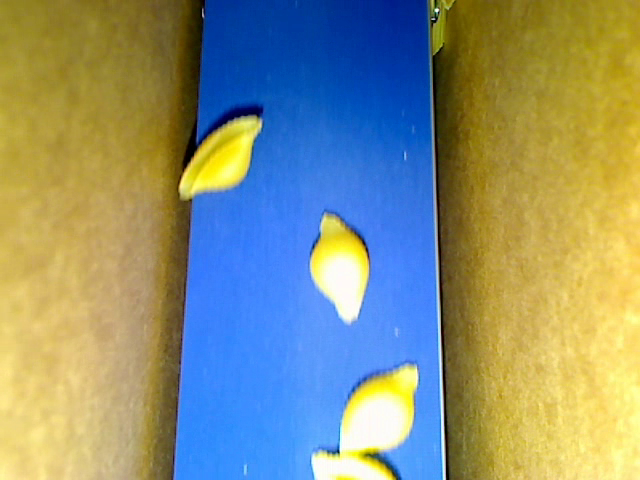penne: (428, 1, 445, 57), (440, 1, 456, 14)
shell: (337, 363, 418, 456), (177, 114, 263, 201), (308, 211, 369, 325), (311, 452, 393, 479)
